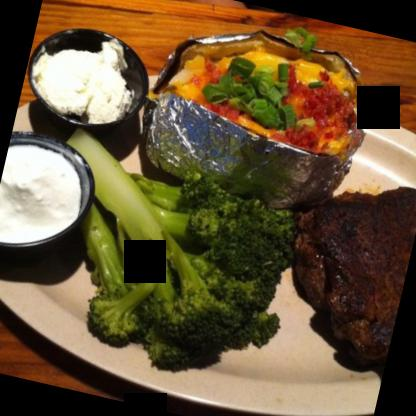broccoli: (25, 129, 308, 388)
yogurt: (18, 29, 146, 134), (0, 136, 95, 263)
